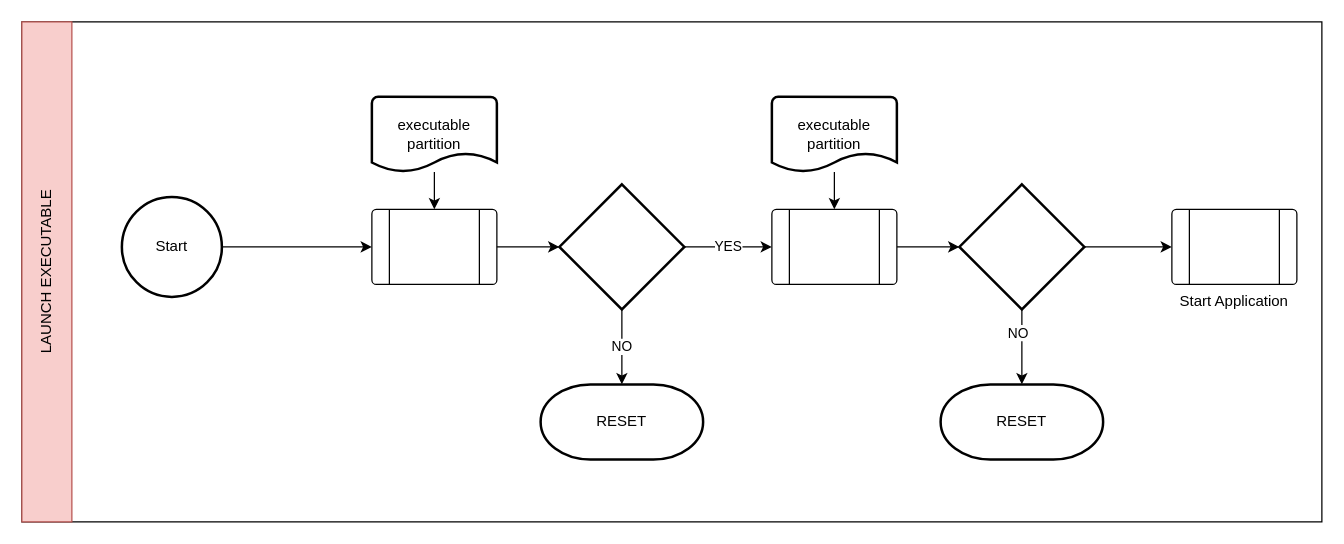
Some shapes in this 1344 by 544 pixel diagram are drawn without their labels. The shapes that lost their labels are listed below. From the top down, each one's centre as x and y in pixels, then its label:
point (434, 246): Verify
point (621, 246): Valid
point (834, 246): Mode Change (executable, readable, write protected)
point (1021, 246): status = SUCCESS?
